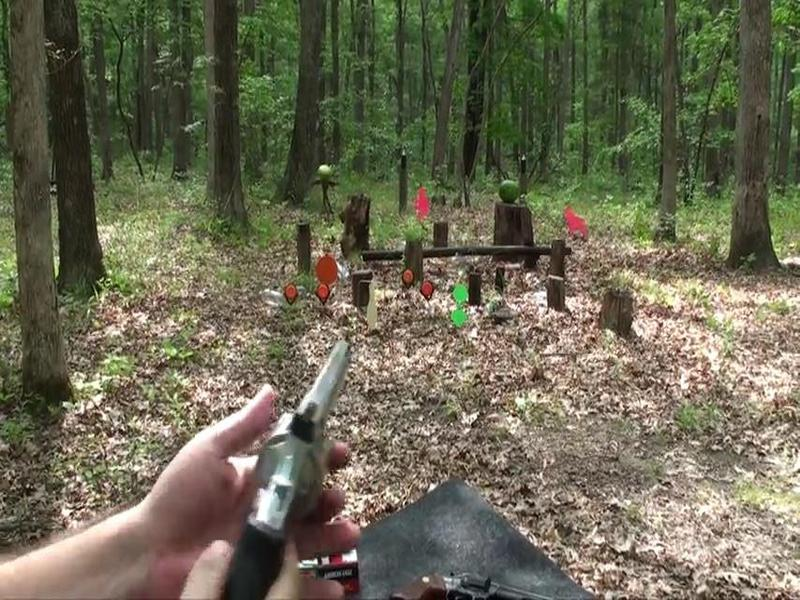Revolver: (175, 336, 367, 600)
